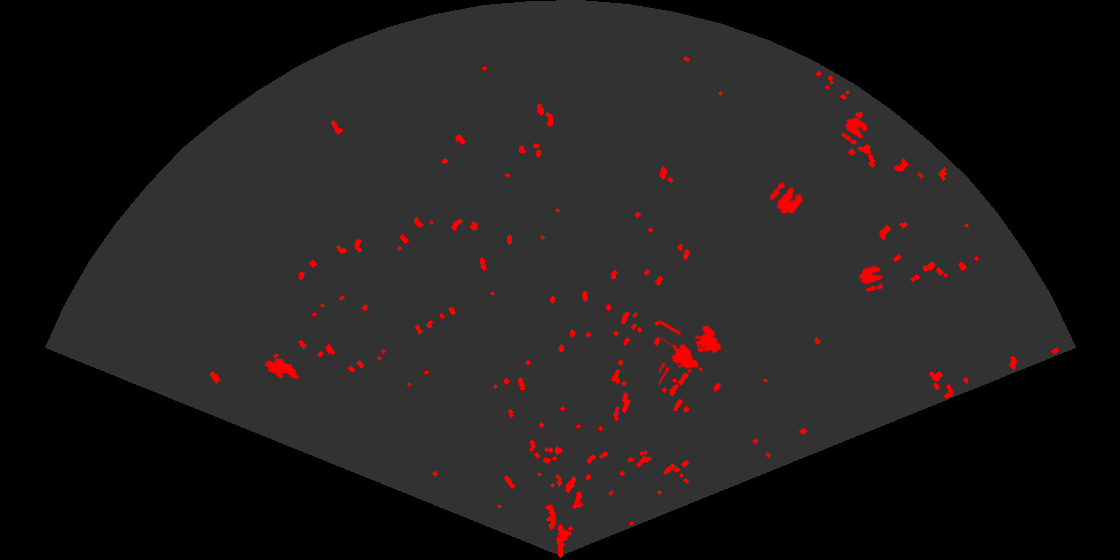AUV: (263, 356, 301, 381)
ball: (768, 180, 804, 216), (840, 116, 869, 146), (858, 264, 885, 293)
cage: (659, 318, 723, 387)
